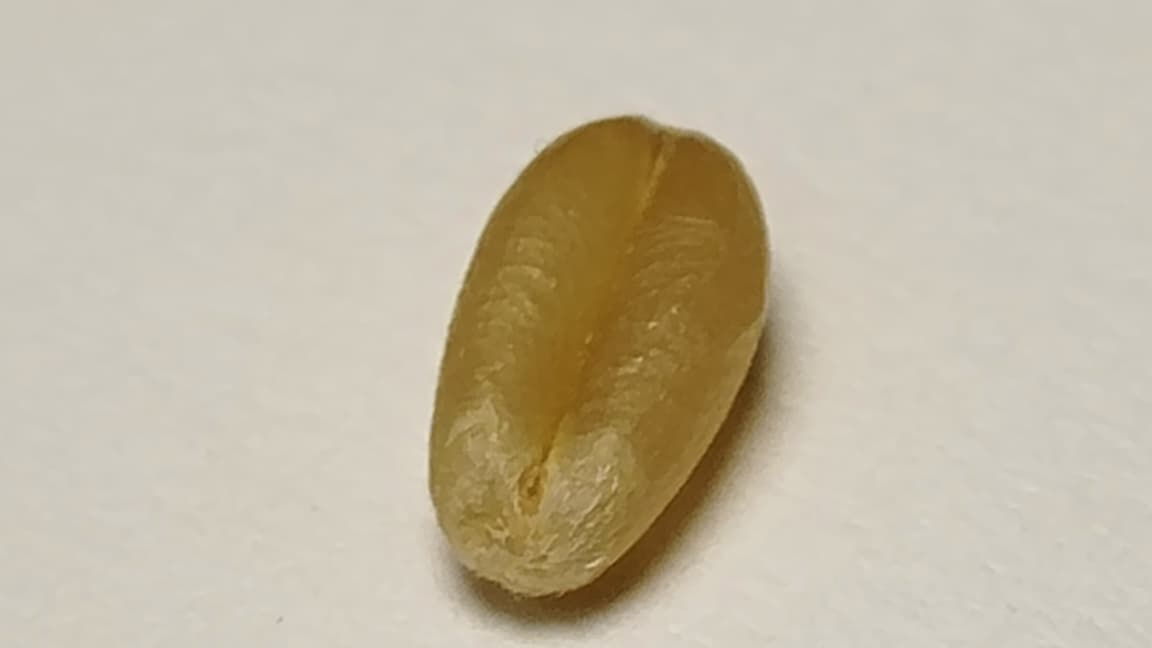healthy: (430, 116, 768, 594)
